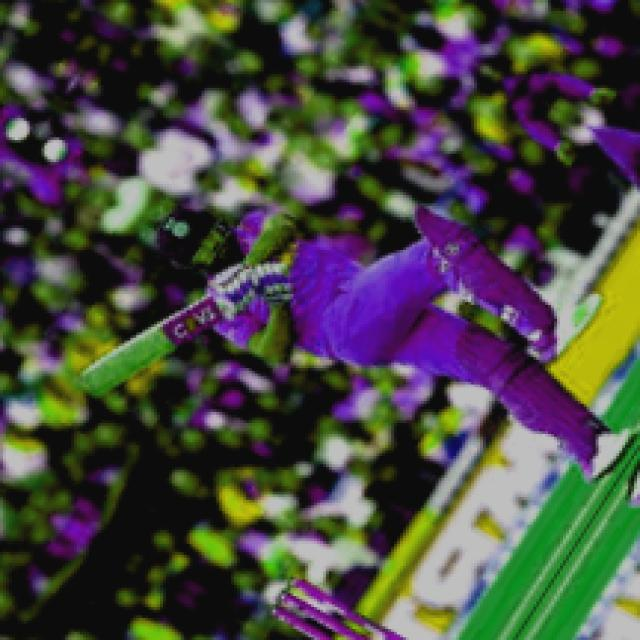toe: (69, 366, 131, 401)
